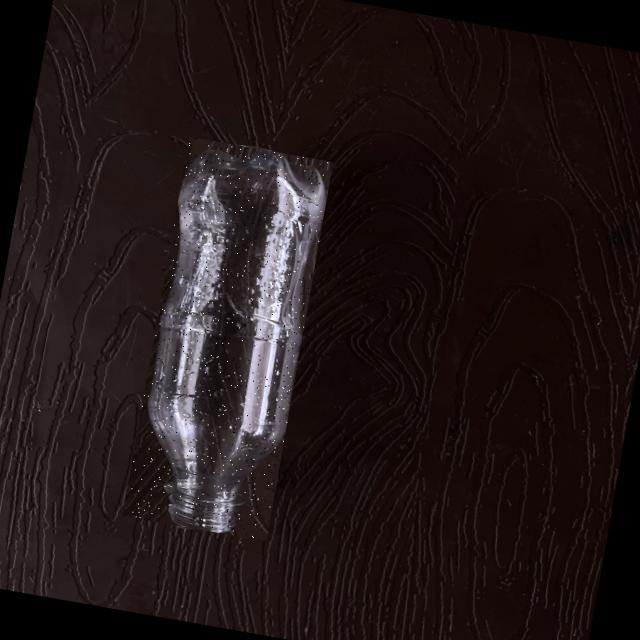PET_With_Liquid: (149, 150, 325, 531)
